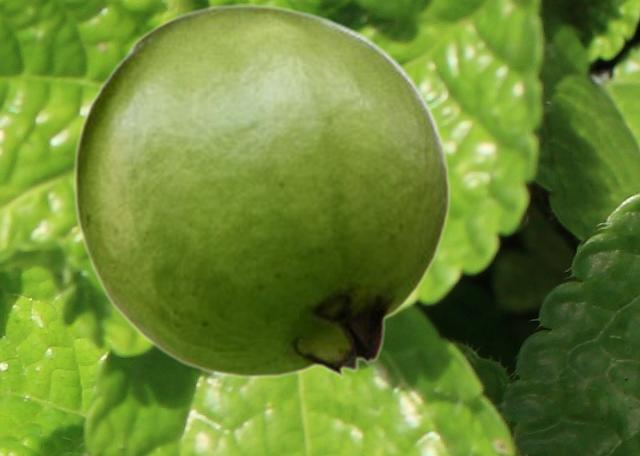guava: (72, 3, 450, 379)
